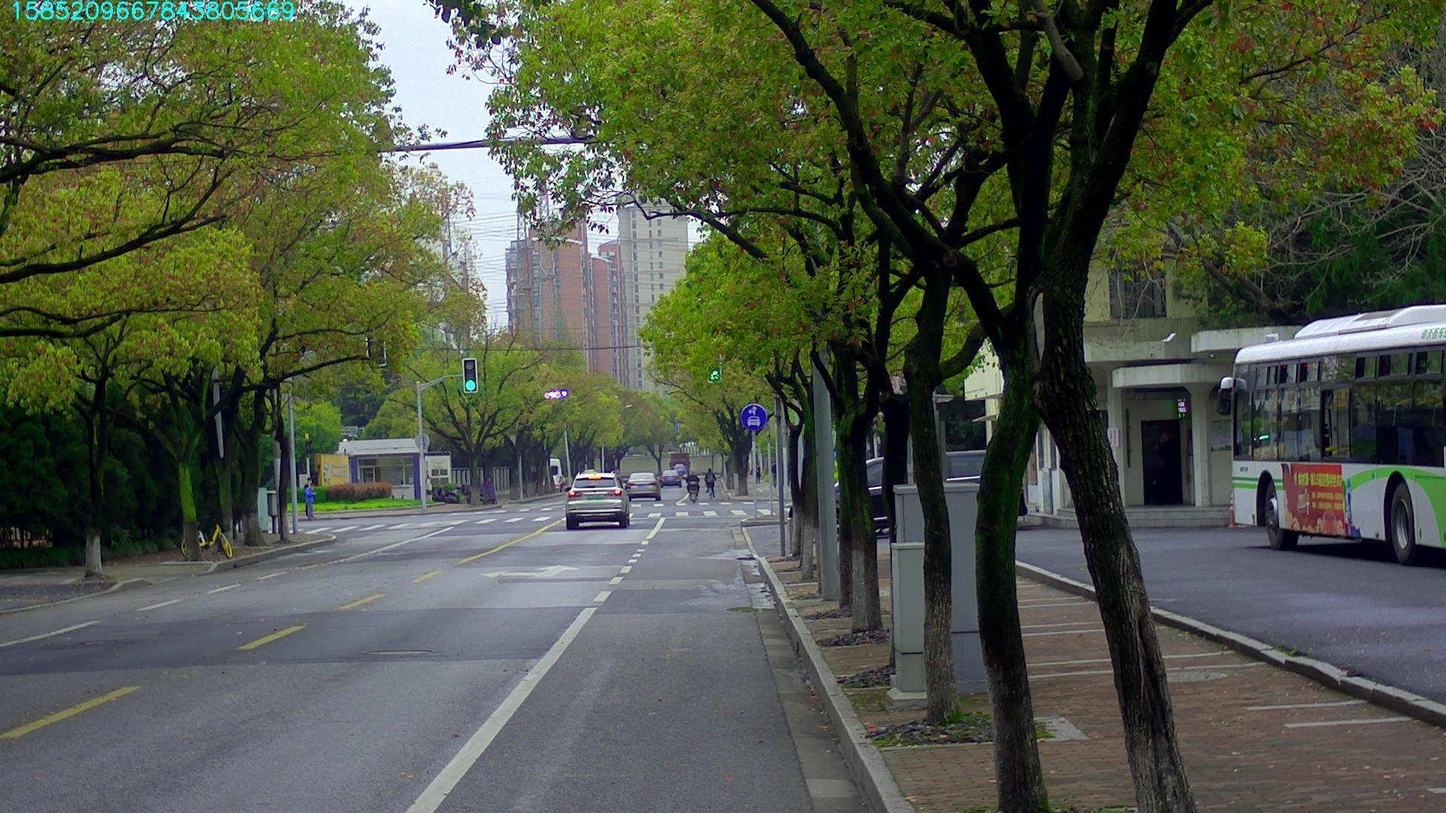green: (706, 347, 721, 382), (462, 358, 476, 391)
